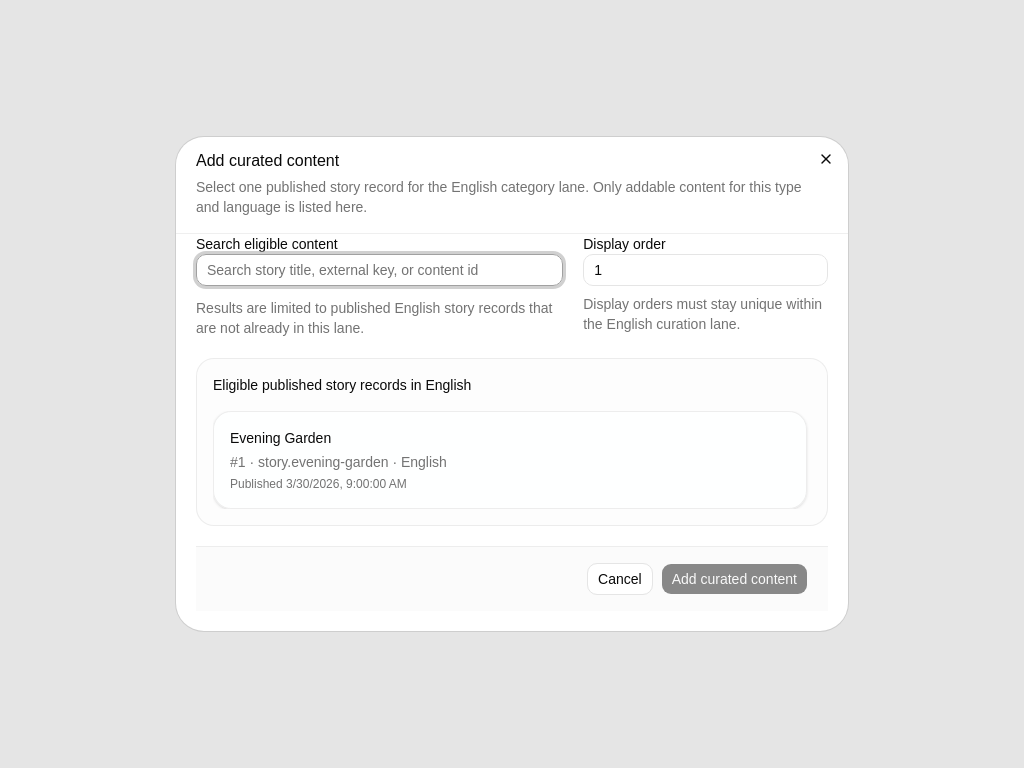
AddCuratedContentDialog › blocks duplicate content ids already present in the current curation lane
Click the button "Evening Garden": [281, 438] box [213,411,807,509]
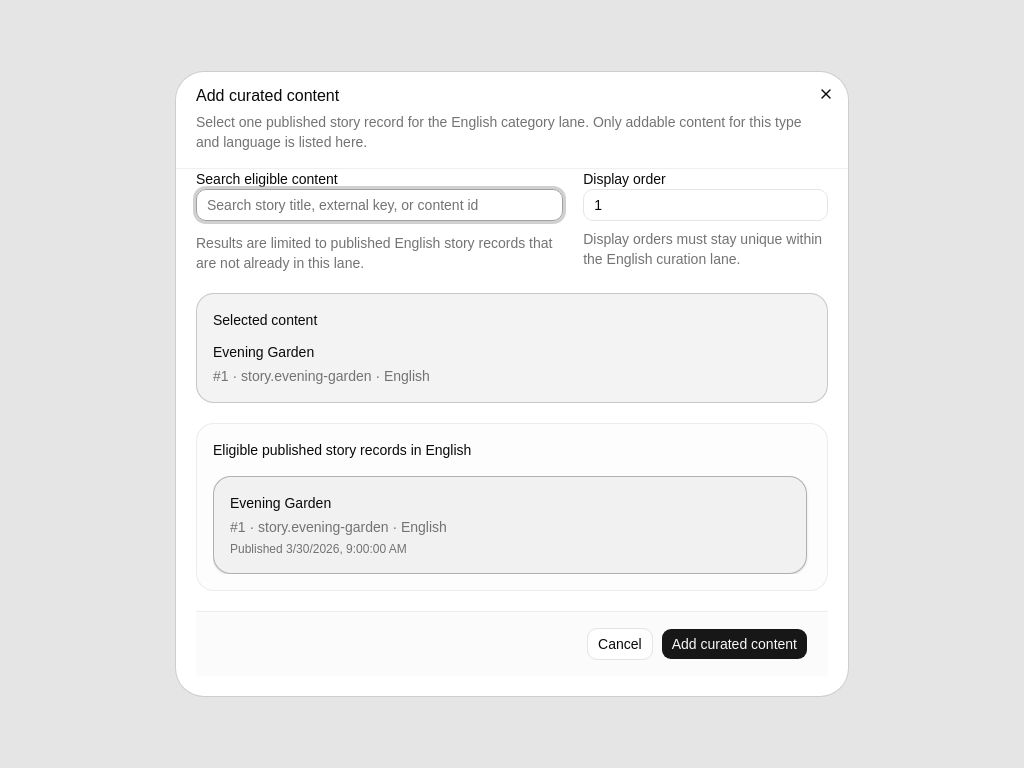
Replace the text in the number field labelled "Display order" with "3": [706, 205] box [583,189,828,221]
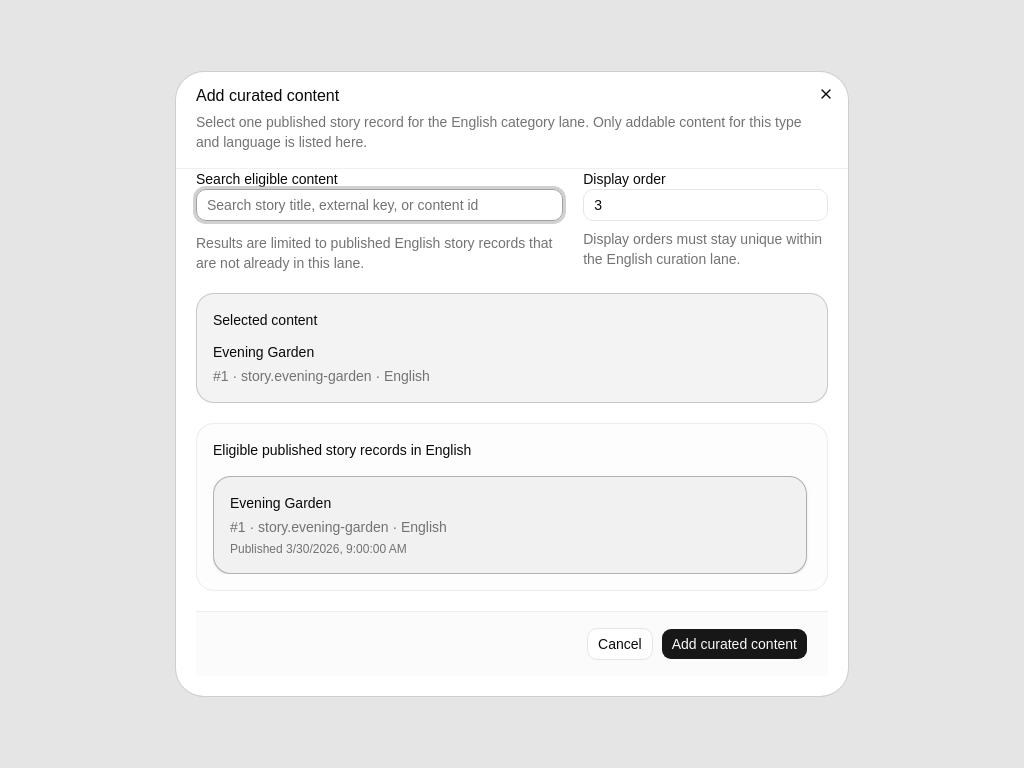
Click the button "Add curated content": [734, 644] box [661,628,808,660]
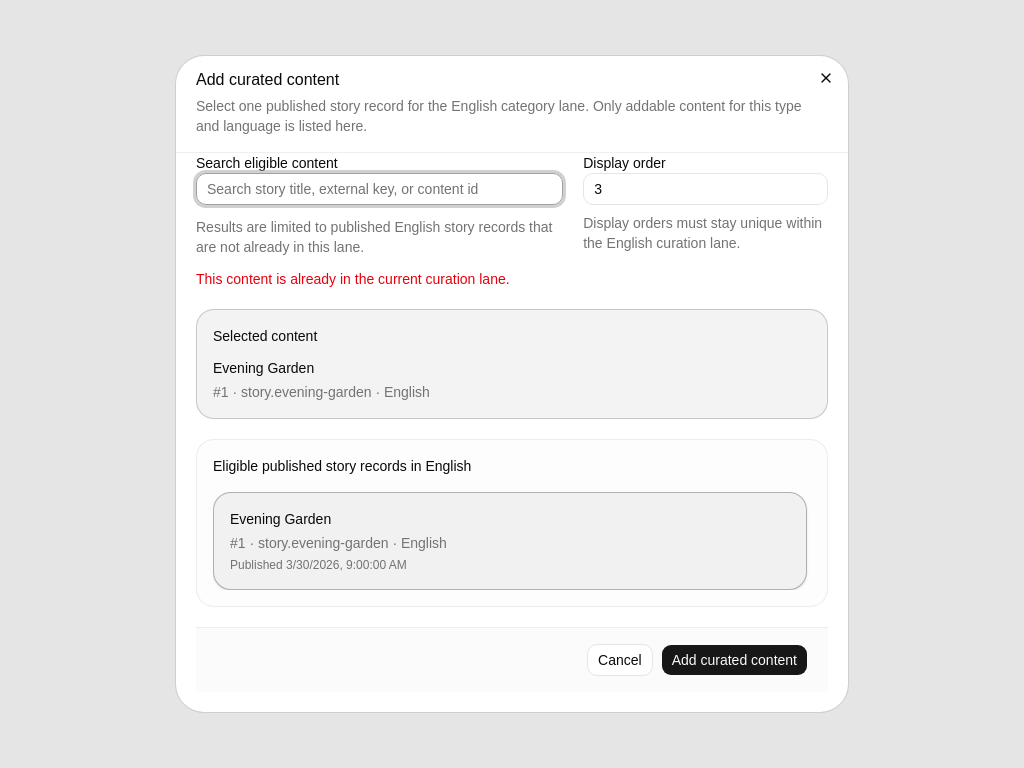
Expected: the text "This content is already in the current curation lane." is shown, [196,269,563,289]
